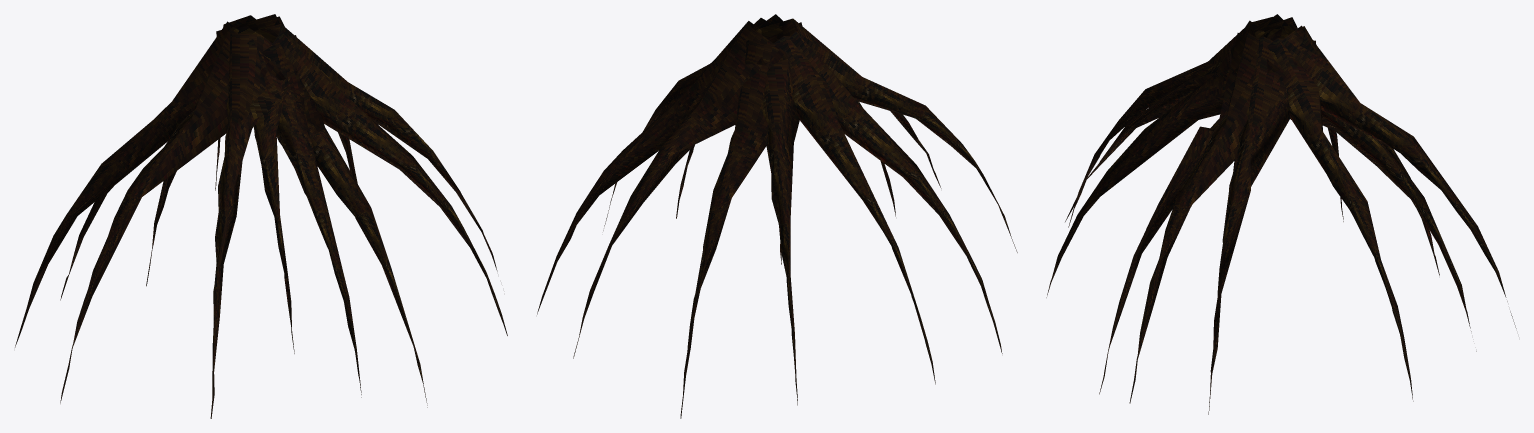
3 views of the same model, side by side, from view 1: azimuth 30°, elevation 25°; view 2: azimuth 150°, elevation 25°; view 3: azimuth 270°, elevation 25° (orthographic). The views are drawn at different scales.
Visible parts, largest first — view 1: Roots; view 2: Roots; view 3: Roots.
Part boxes in pixels (x1,y1,x2,y2): Roots: (15,14,507,418); Roots: (537,14,1017,418); Roots: (1046,14,1516,414).
Size of the model in its own units: 0.2683 by 0.2007 by 0.2611.
1 material, 1 textured.
